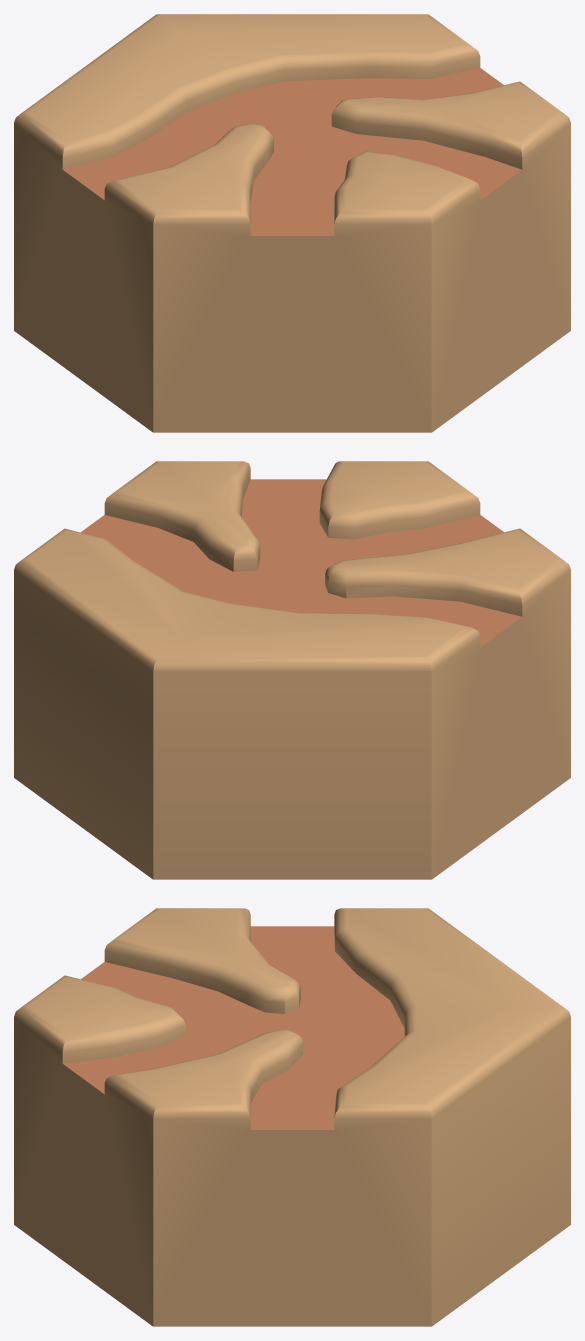
File: hex_sand_roadK.glb
3 views of the same model, one above another, from view 1: azimuth 30°, elevation 25°; view 2: azimuth 150°, elevation 25°; view 3: azimuth 270°, elevation 25° (orthographic).
Parts seen in each view (by area): view 1: hex_sand_roadK; view 2: hex_sand_roadK; view 3: hex_sand_roadK.
Part boxes in pixels (x1,y1,x2,y2): hex_sand_roadK: (14,14,570,432); hex_sand_roadK: (14,461,570,879); hex_sand_roadK: (14,908,570,1326).
Size of the model in its own units: 2 by 1 by 2.31.
